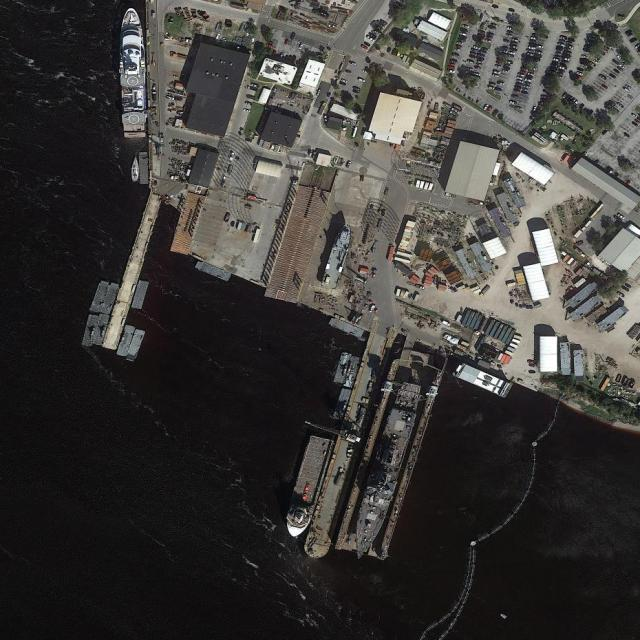Cargo: (279, 432, 337, 541)
Destroyer: (346, 380, 423, 563)
Dock: (302, 330, 392, 562), (101, 193, 164, 350)
Other Ship: (131, 156, 140, 182)
Yacht: (116, 8, 149, 140)
